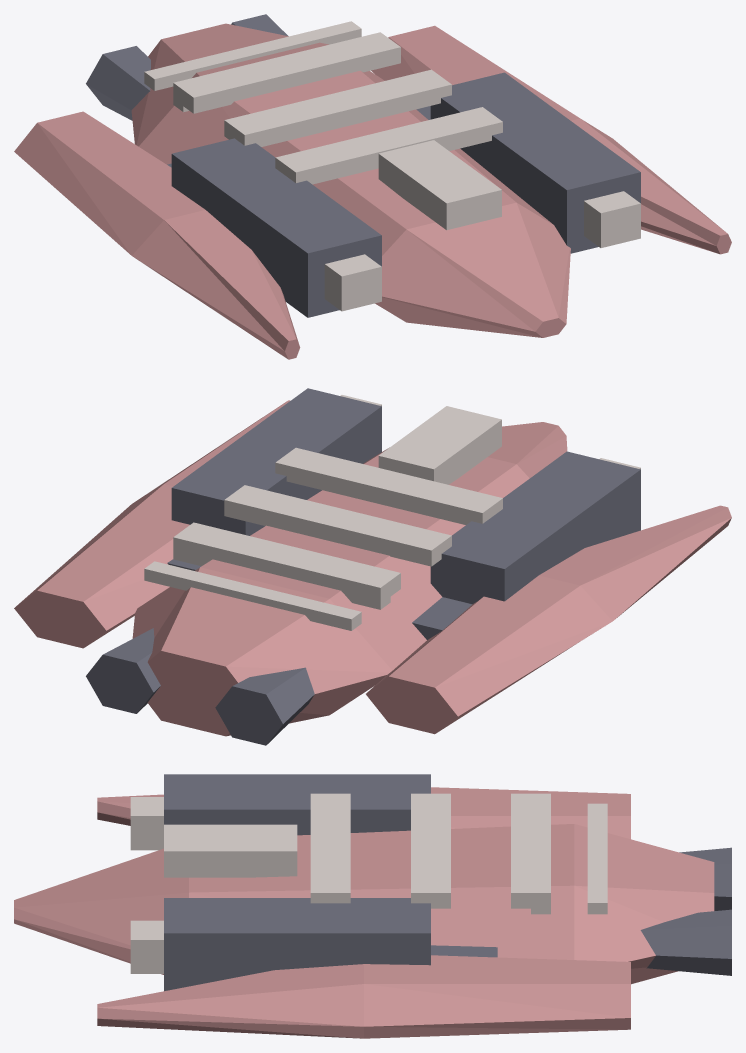
3 views of the same model, one above another, from view 1: azimuth 30°, elevation 25°; view 2: azimuth 150°, elevation 25°; view 3: azimuth 270°, elevation 25° (orthographic). The views are drawn at different scales.
Size of the model in its own units: 3.56 by 0.9434 by 4.69.
